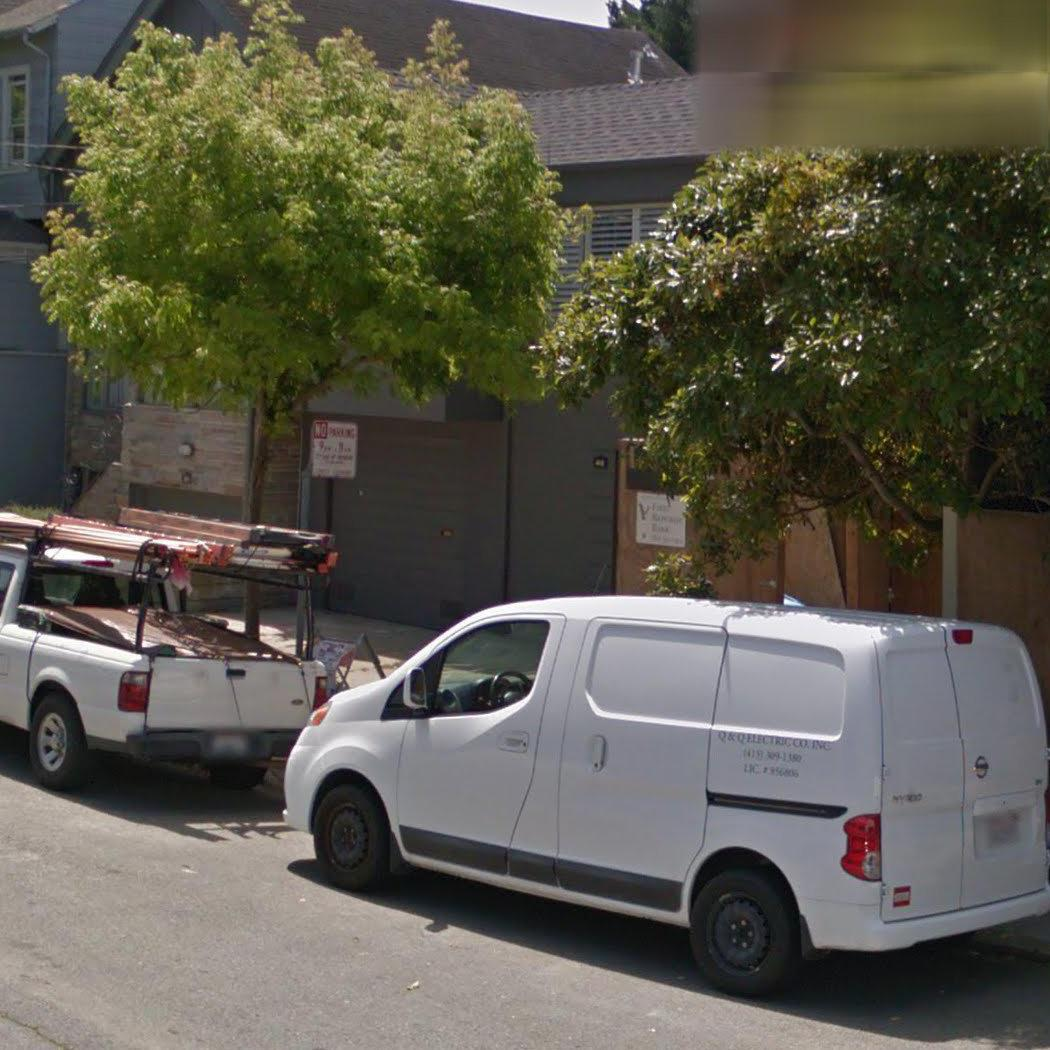No Parking: (305, 412, 364, 484)
